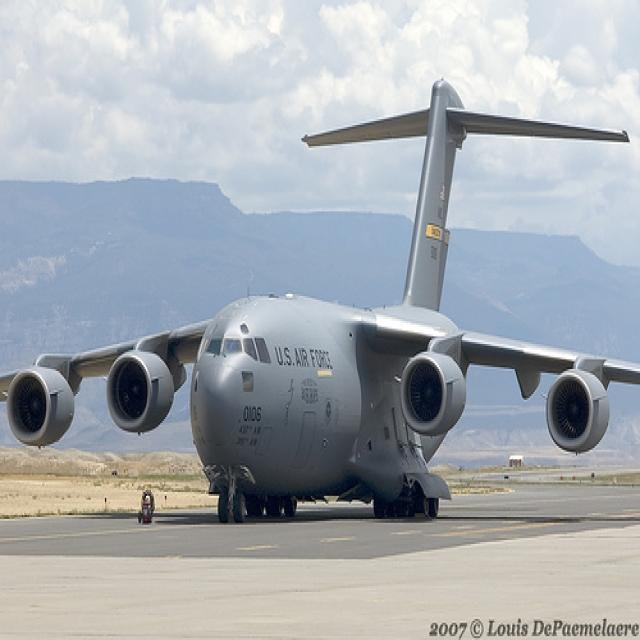aeroplane: (1, 76, 640, 528)
